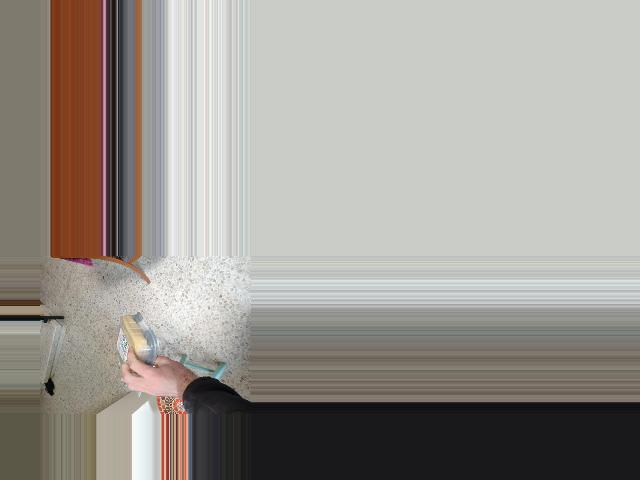cheese: (112, 310, 158, 386)
